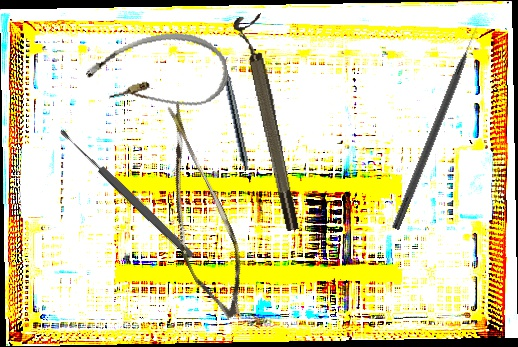Cannula: (81, 22, 234, 127)
Fixation Ring: (232, 13, 303, 234)
Handpiece: (218, 56, 253, 172)
Hook Surgical: (390, 20, 485, 231)
Micro Scissor: (118, 101, 277, 325)
Surgical Spoon: (57, 126, 197, 261)
